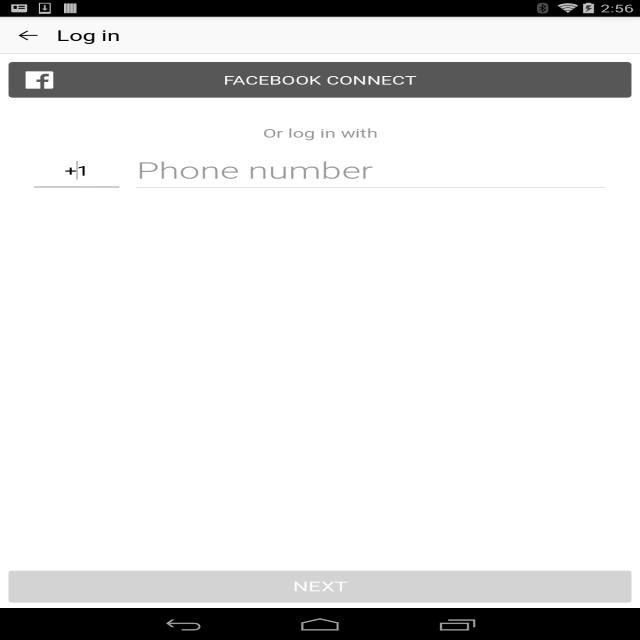Button: (5, 60, 631, 98), (2, 566, 627, 604)
EditText: (131, 155, 396, 181)
TextView: (233, 117, 420, 140), (44, 26, 124, 45)
